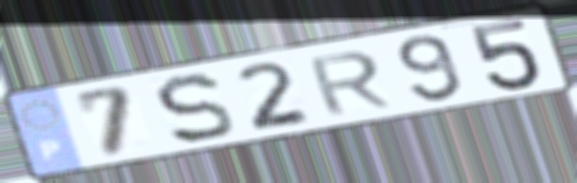2: (239, 59, 316, 135)
5: (463, 14, 545, 93)
7: (72, 81, 143, 161)
9: (394, 33, 465, 104)
R: (303, 48, 396, 119)
S: (150, 71, 238, 147)
